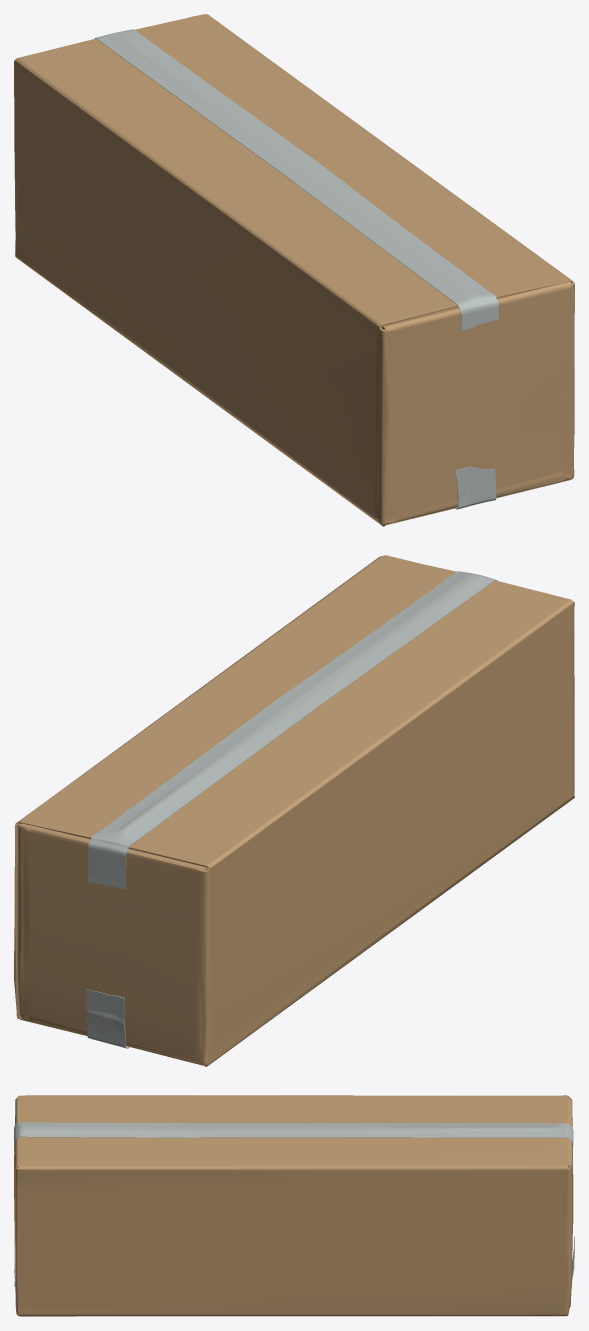
Rendered from box_long_a03.glb.
3 renders of one model, top to bottom at view 1: azimuth 30°, elevation 25°; view 2: azimuth 150°, elevation 25°; view 3: azimuth 270°, elevation 25°, orthographic. The views are drawn at different scales.
Bounding box in the file's own units: 0.1576 × 0.1574 × 0.5139.
